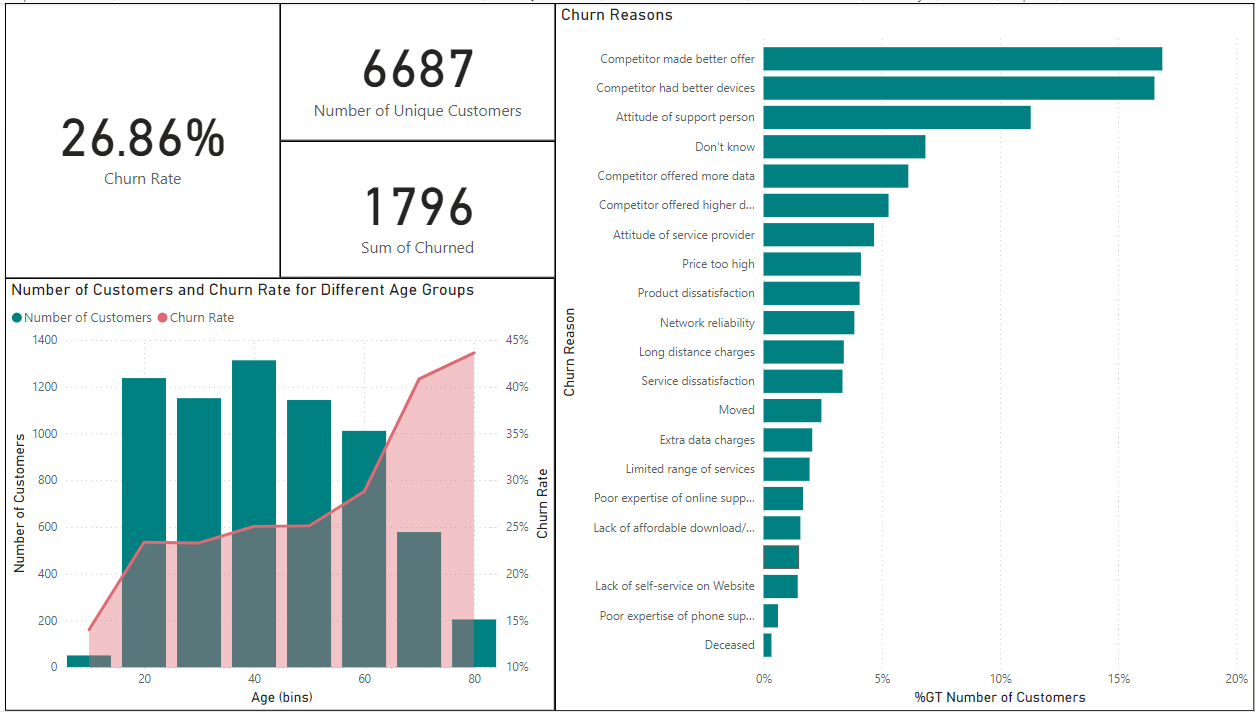

Layout of this report page (visuals, bound fields, positions):
{"tool":"powerbi","page":{"name":"Churn Demograph","canvas":[1280,720],"ordinal":1},"visuals":[{"type":"card","fields":{"Values":["Databel - Data.Churn Rate"]},"box":[10,0,280,280],"z":0},{"type":"card","fields":{"Values":["Databel - Data.Number of Unique Customers"]},"box":[289.6,0,279.7,140.4],"z":1000},{"type":"card","fields":{"Values":["Sum(Databel - Data.Churned)"]},"box":[289.6,140.4,279.7,139.3],"z":2000},{"type":"clusteredBarChart","title":"Churn Reasons","fields":{"Category":["Databel - Data.Churn Reason"],"Y":["Databel - Data.Number of Customers"]},"box":[569.3,0,710.7,719.6],"z":3000},{"type":"lineStackedColumnComboChart","title":"Number of Customers and Churn Rate for Different Age Groups","fields":{"Y":["Databel - Data.Number of Customers"],"Y2":["Databel - Data.Churn Rate"],"Category":["Databel - Data.Age (bins)"]},"box":[9.9,279.7,559.3,439.9],"z":4000}]}

Visuals, with their boxes in screenshot pixels (x1, y1, x2, y2), scaled from the page's 1280x720 canvas onto the 1255x712 screenshot:
card - Databel - Data.Churn Rate: 10,0,284,277
card - Databel - Data.Number of Unique Customers: 284,0,558,139
card - Sum(Databel - Data.Churned): 284,139,558,277
"Churn Reasons" clusteredBarChart: 558,0,1254,711
"Number of Customers and Churn Rate for Different Age Groups" lineStackedColumnComboChart: 10,277,558,711
